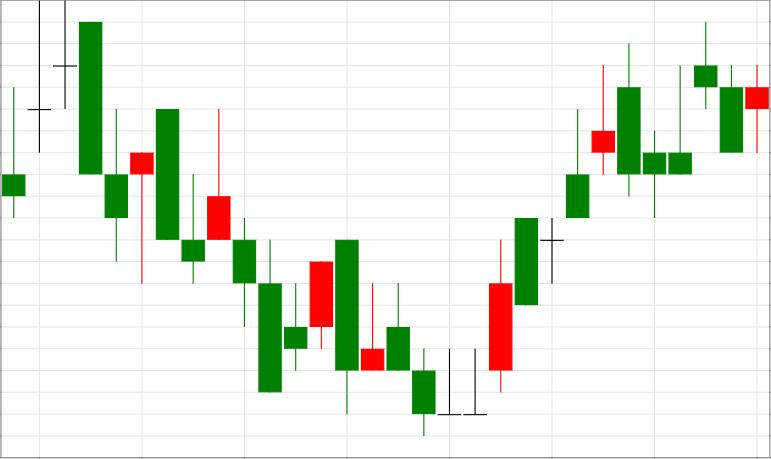bearish_engulfing_fall: (489, 42, 640, 394)
